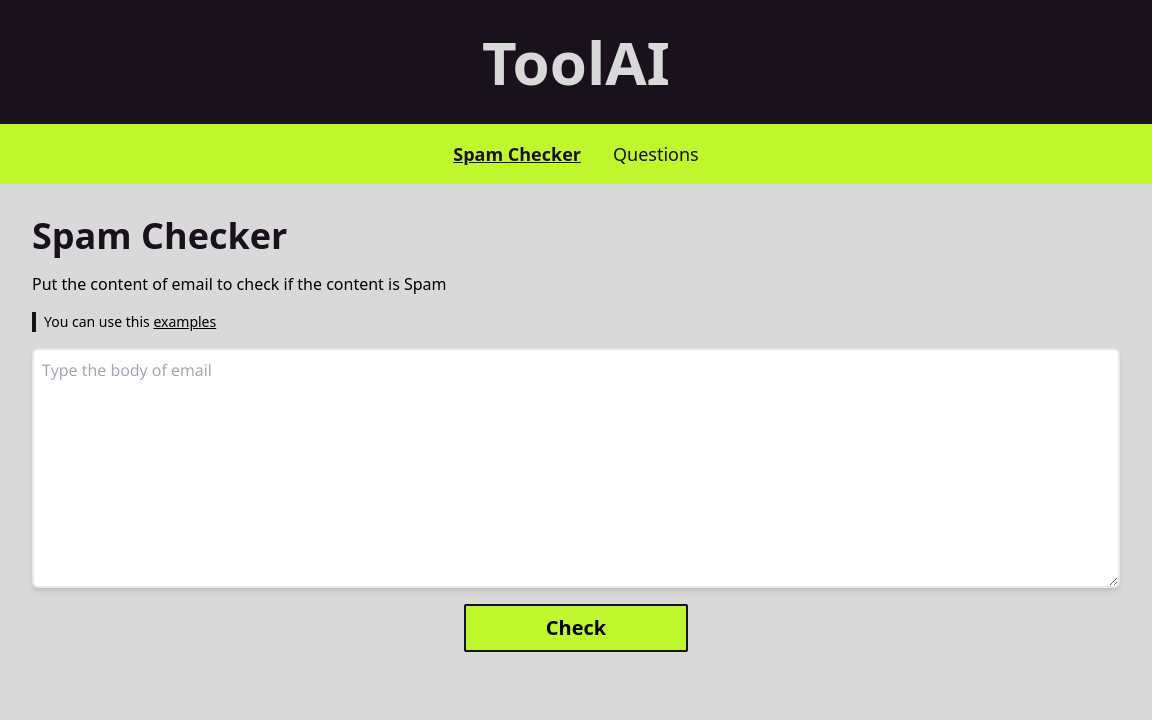
Given the app › When click on button 'Try' of Question › Then it should show a heading level 2 with text 'Question'
Click the link "Questions" at [656, 154], box 613,142 -> 699,166
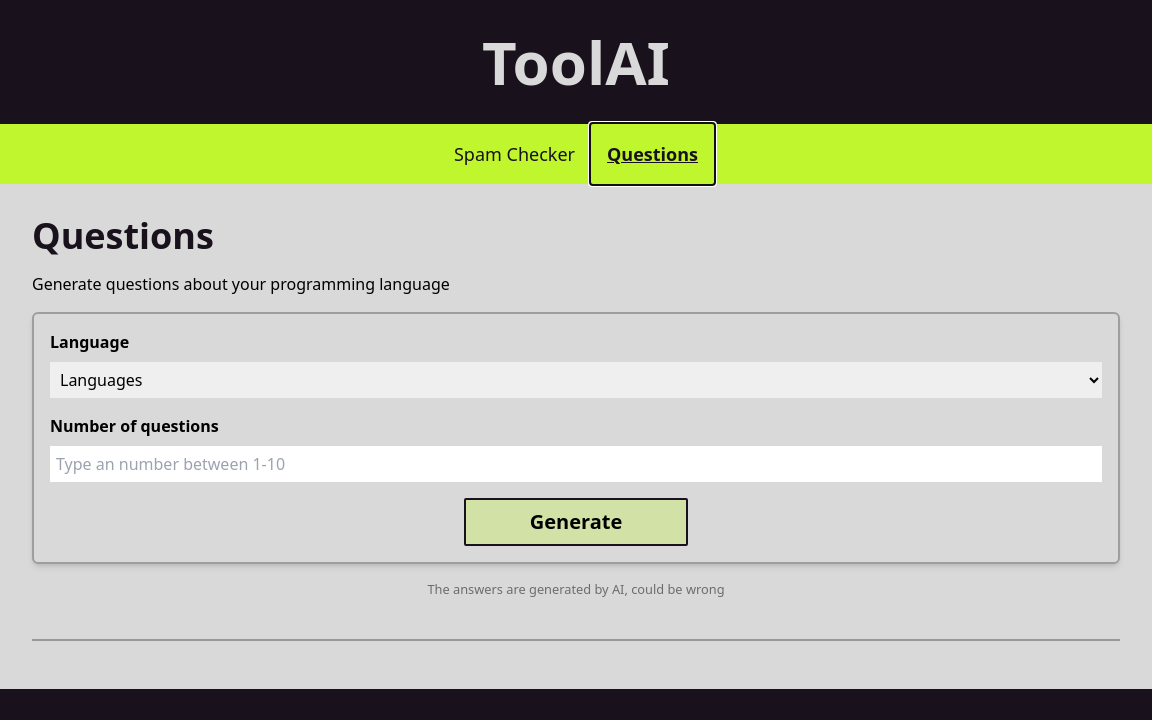
Expected: the heading "Questions" is shown, 32,211 -> 214,260
